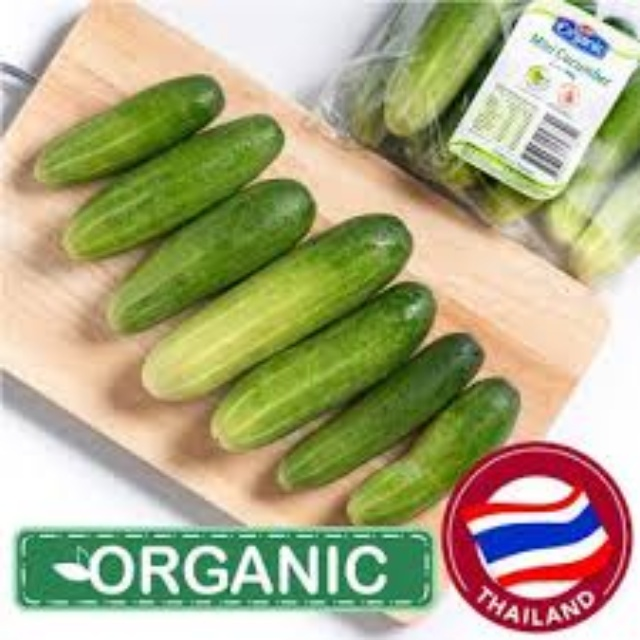dua_leo: (141, 211, 414, 406), (210, 283, 441, 451), (100, 178, 317, 351), (344, 377, 523, 555), (28, 71, 230, 185)
